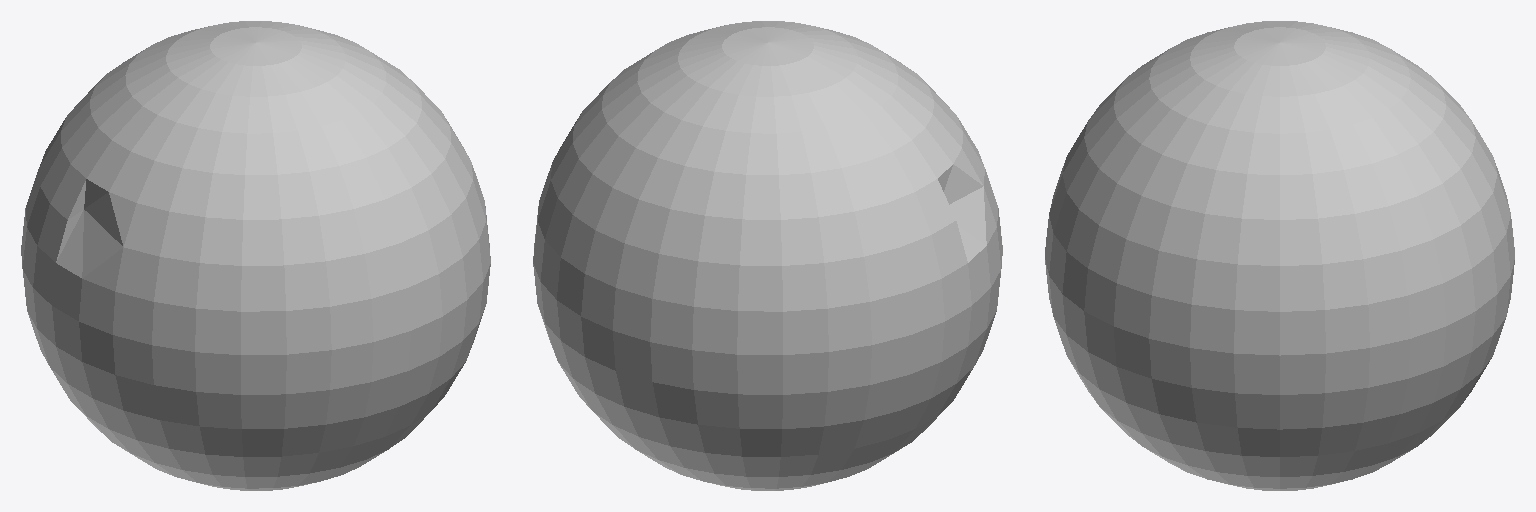
File: sky.obj
The picture shows the model from 3 angles: view 1: azimuth 30°, elevation 25°; view 2: azimuth 150°, elevation 25°; view 3: azimuth 270°, elevation 25°; orthographic projection.
Visible parts, largest first — view 1: Sphere; view 2: Sphere; view 3: Sphere.
Part boxes in pixels (bbox=[...]): Sphere: bbox=[21, 21, 490, 490]; Sphere: bbox=[533, 21, 1002, 490]; Sphere: bbox=[1045, 21, 1514, 490].
Size of the model in its own units: 55.59 by 55.59 by 55.59.